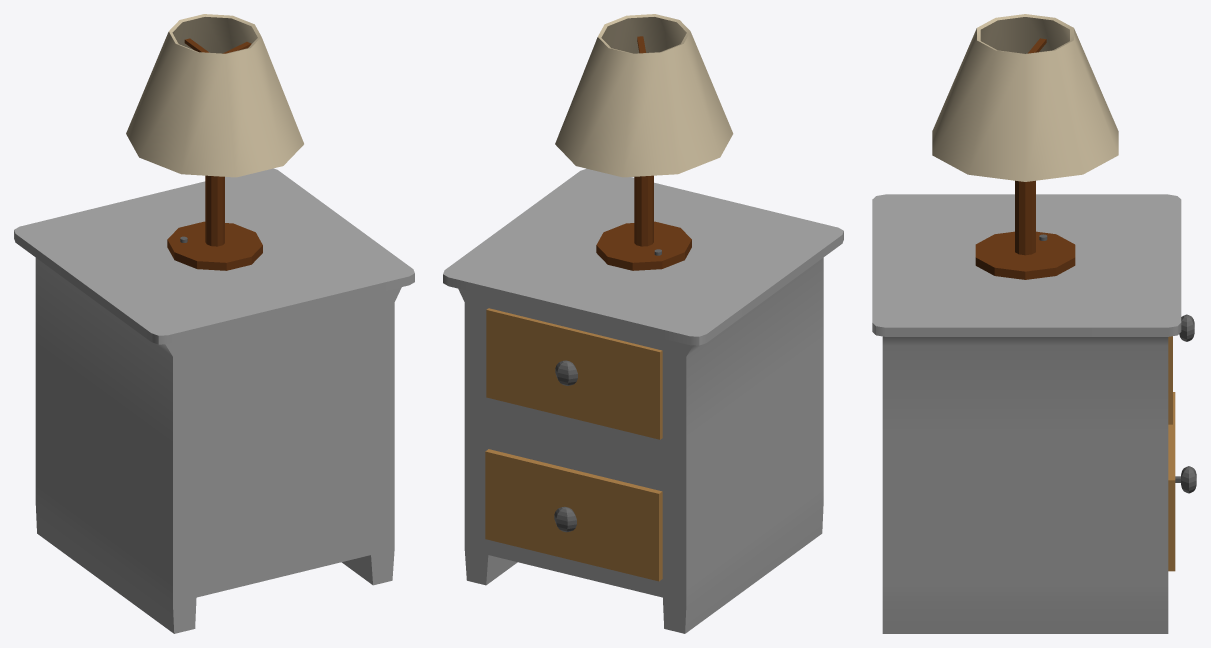
File: furniture_sidetable.fbx
The picture shows the model from 3 angles, left to right: view 1: azimuth 30°, elevation 25°; view 2: azimuth 150°, elevation 25°; view 3: azimuth 270°, elevation 25°; orthographic projection. The views are drawn at different scales.
Visible parts, largest first — view 1: polySurface3; view 2: polySurface3; view 3: polySurface3.
Boxes of the visible parts, x1=… form: polySurface3: x1=14, y1=14, x2=414, y2=633; polySurface3: x1=443, y1=14, x2=843, y2=633; polySurface3: x1=872, y1=14, x2=1196, y2=633.
Size of the model in its own units: 11.58 by 22.09 by 11.92.
